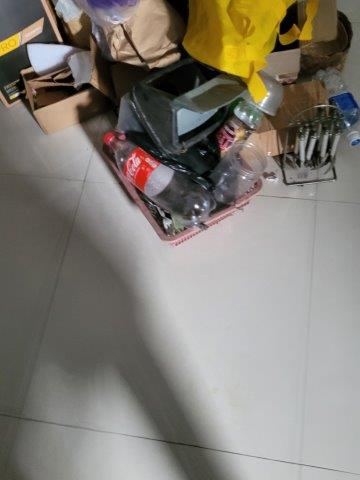botolplastik: (102, 132, 214, 225), (215, 103, 260, 160)
